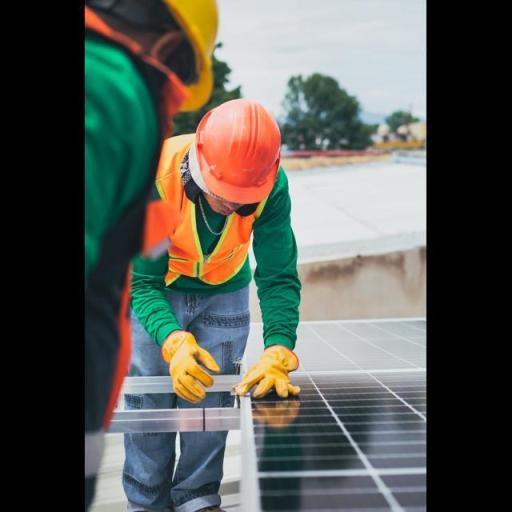Person: (150, 67, 330, 413)
gloves: (138, 329, 218, 398), (230, 342, 308, 400)
helmet: (82, 4, 232, 110), (192, 93, 286, 208)
